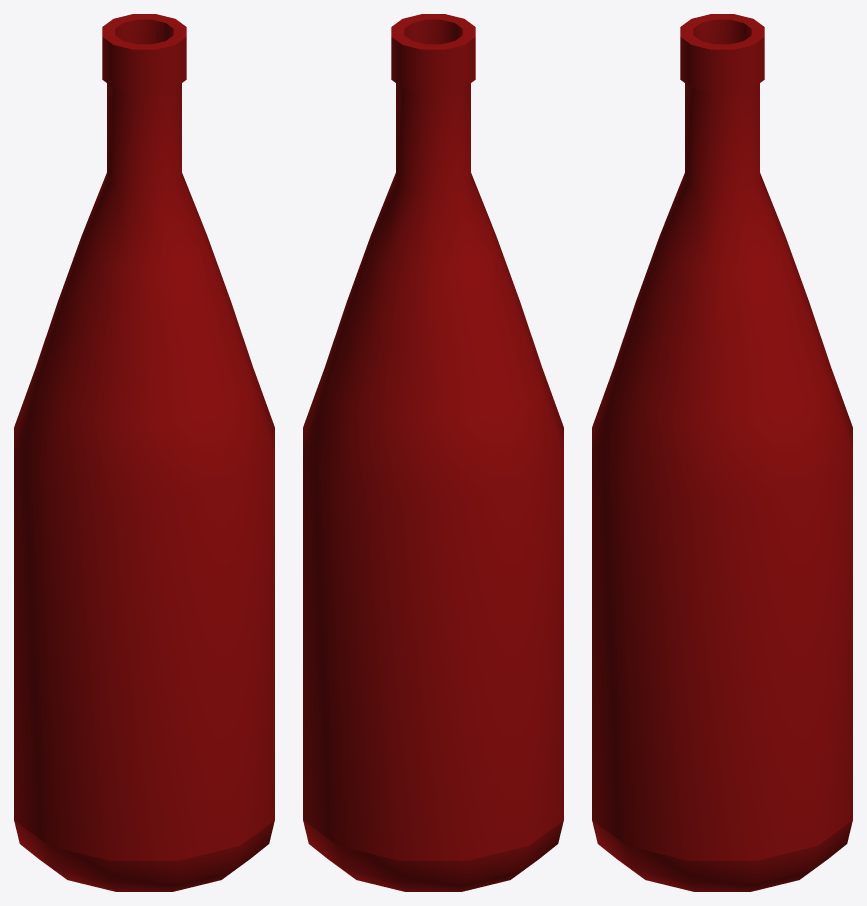
The model's file is BottleRed.FBX.
3 views of the same model, side by side, from view 1: azimuth 30°, elevation 25°; view 2: azimuth 150°, elevation 25°; view 3: azimuth 270°, elevation 25° (orthographic).
Visible parts, largest first — view 1: Bottle_type2_001; view 2: Bottle_type2_001; view 3: Bottle_type2_001.
Part boxes in pixels (x1=…): Bottle_type2_001: x1=14, y1=14, x2=274, y2=891; Bottle_type2_001: x1=303, y1=14, x2=563, y2=891; Bottle_type2_001: x1=592, y1=14, x2=852, y2=891.
Size of the model in its own units: 4.84 by 4.84 by 16.69.
